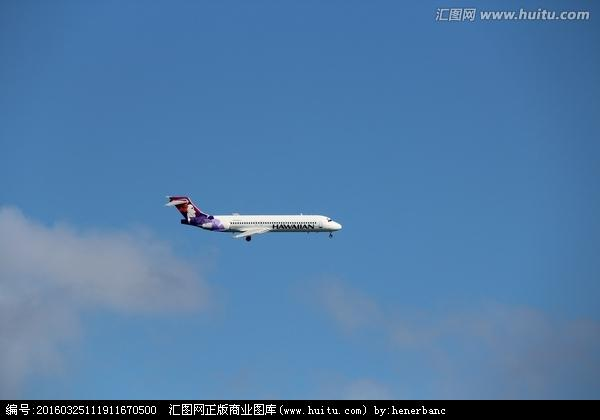airplane: (166, 192, 348, 241)
